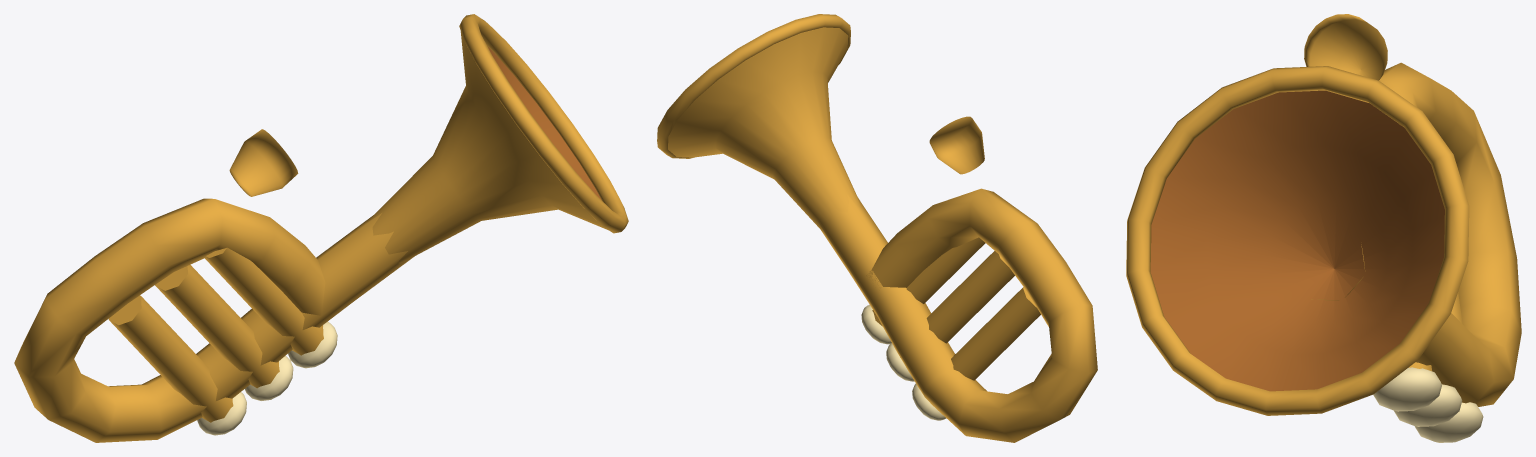
The model's file is trumpet.glb.
3 views of the same model, side by side, from view 1: azimuth 30°, elevation 25°; view 2: azimuth 150°, elevation 25°; view 3: azimuth 270°, elevation 25° (orthographic). The views are drawn at different scales.
Parts seen in each view (by area): view 1: trumpet; view 2: trumpet; view 3: trumpet.
Boxes of the visible parts, x1=… form: trumpet: x1=14, y1=14, x2=628, y2=442; trumpet: x1=657, y1=14, x2=1097, y2=442; trumpet: x1=1126, y1=14, x2=1521, y2=442.
Bounding box in the file's own units: 0.9221 × 0.6258 × 0.4372.
